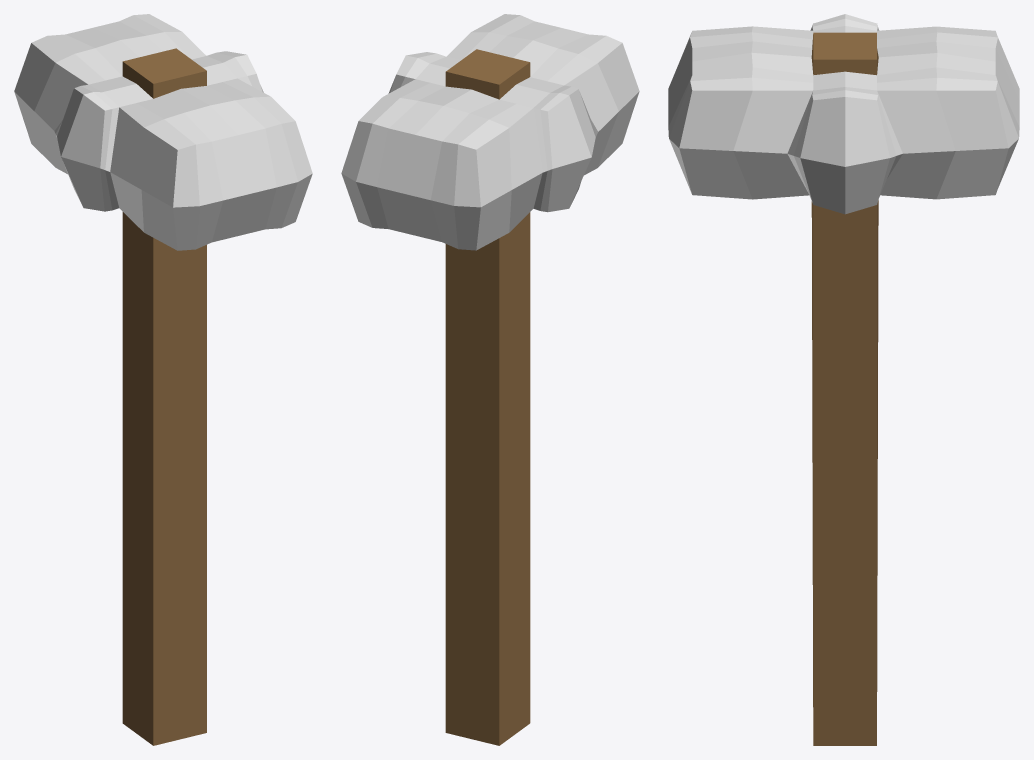
The model's file is Hammer.fbx.
3 renders of one model, left to right at view 1: azimuth 30°, elevation 25°; view 2: azimuth 150°, elevation 25°; view 3: azimuth 270°, elevation 25°, orthographic. The views are drawn at different scales.
Visible parts, largest first — view 1: Cube; view 2: Cube; view 3: Cube.
Part boxes in pixels (box(x1,y1,x2,y2)): Cube: box(14, 14, 312, 745); Cube: box(341, 14, 639, 745); Cube: box(668, 14, 1019, 745).
Bounding box in the file's own units: 85.96 × 261 × 121.
